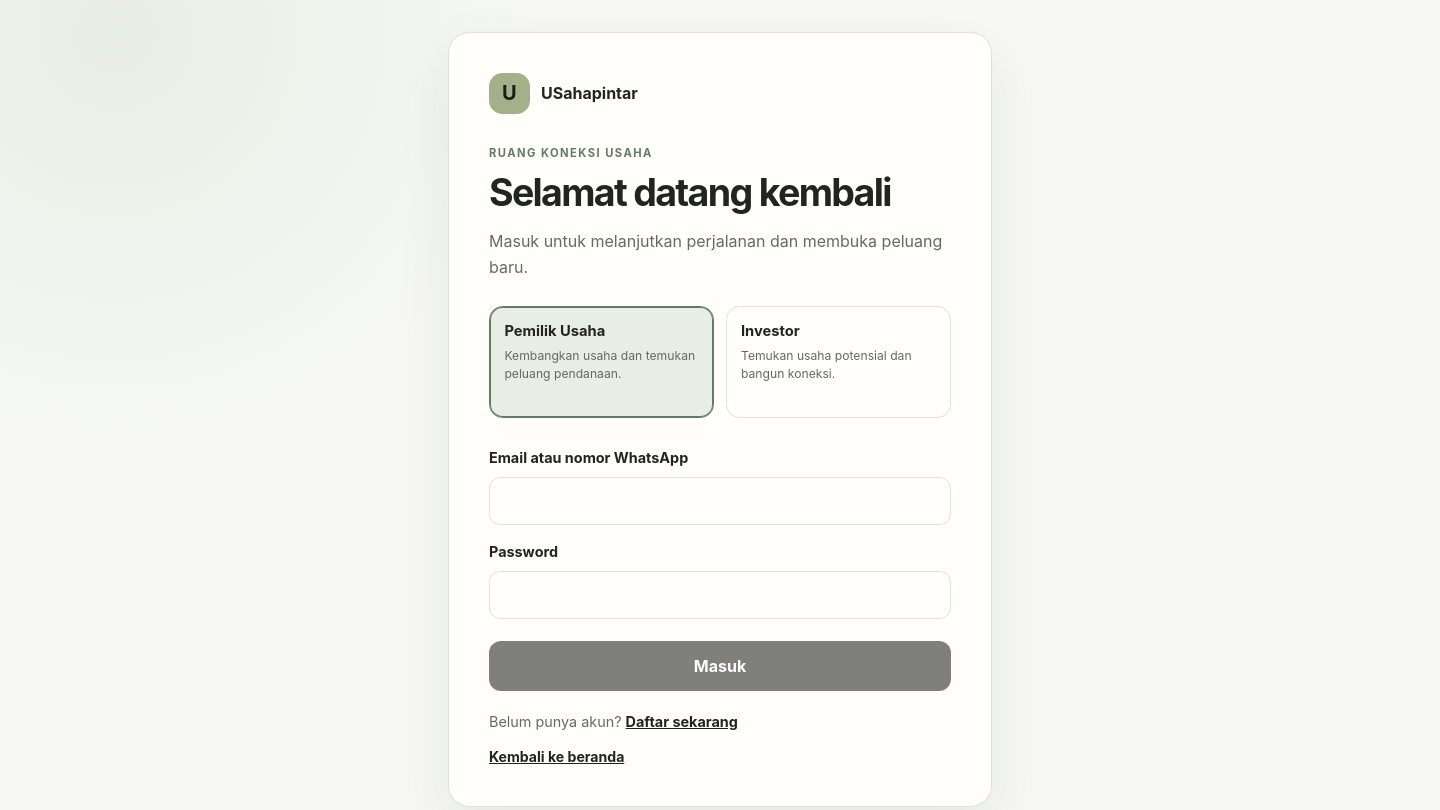
ClientLoginPage › shows API errors without exposing credentials
Type "owner@example.test" into the field labelled "Email atau nomor WhatsApp".
click(720, 501); type("owner@example.test")  # box [489,477,951,525]
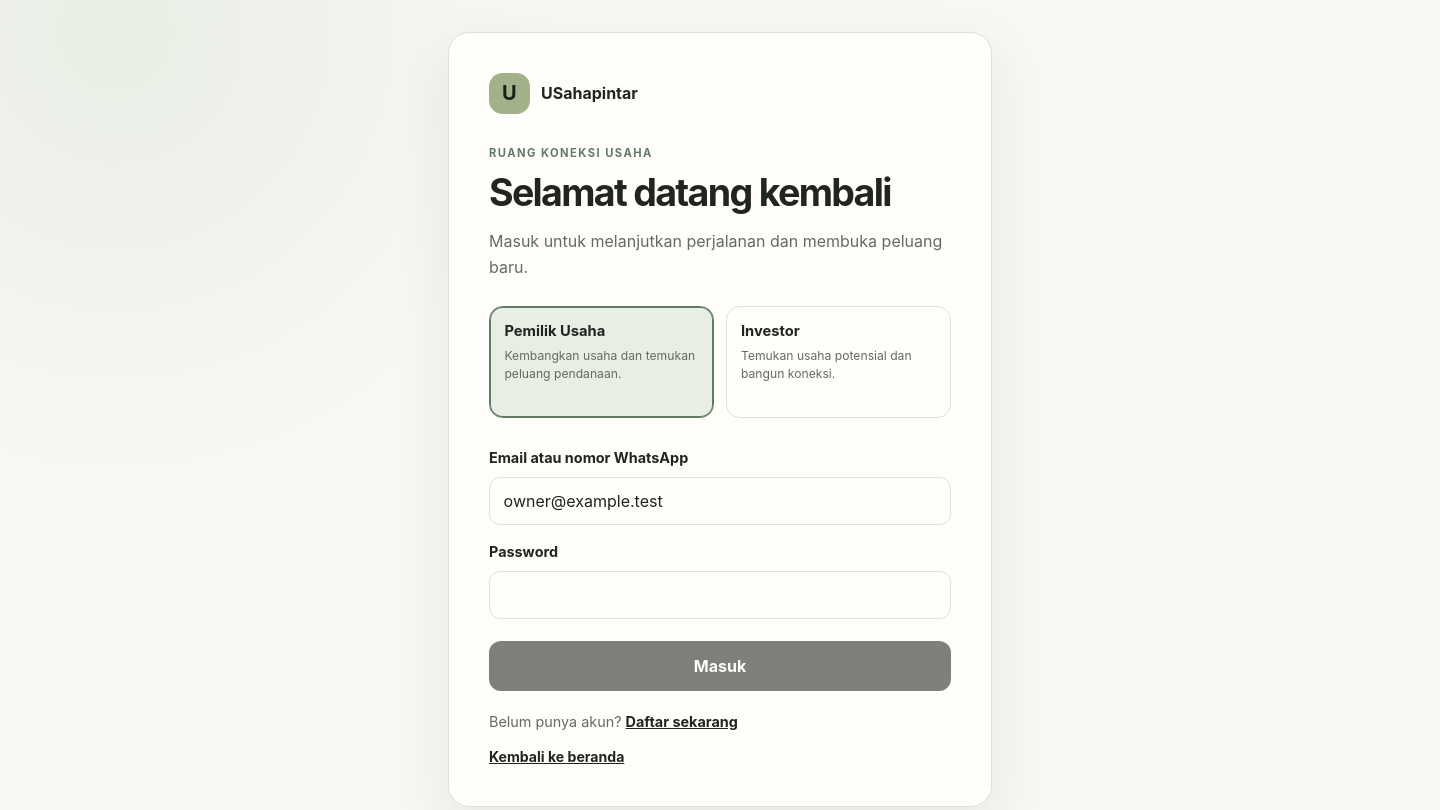
Type "not-a-real-password" into the password field labelled "Password".
click(720, 595); type("not-a-real-password")  # box [489,571,951,619]
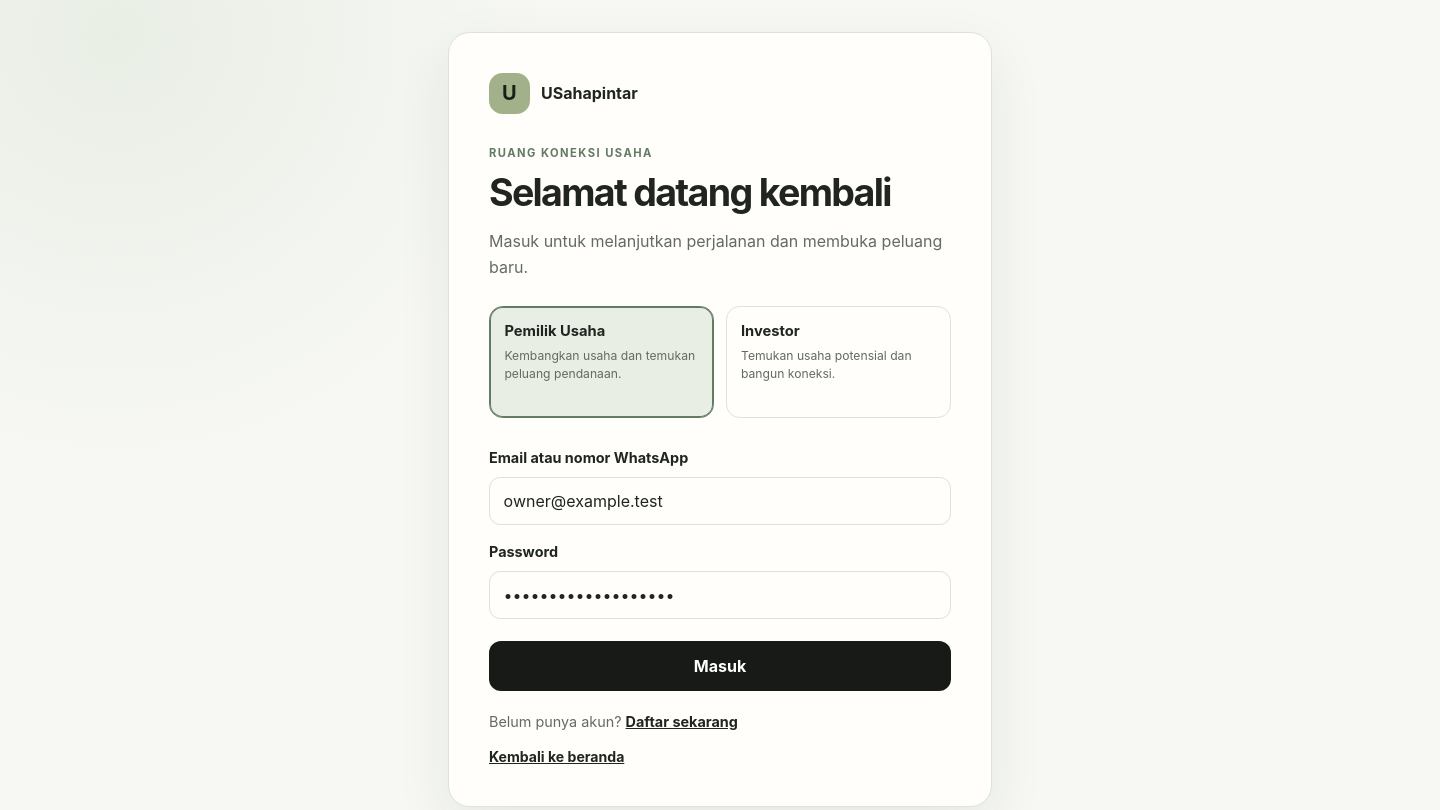
Click the button "Masuk".
click(720, 666)  # box [489,641,951,691]
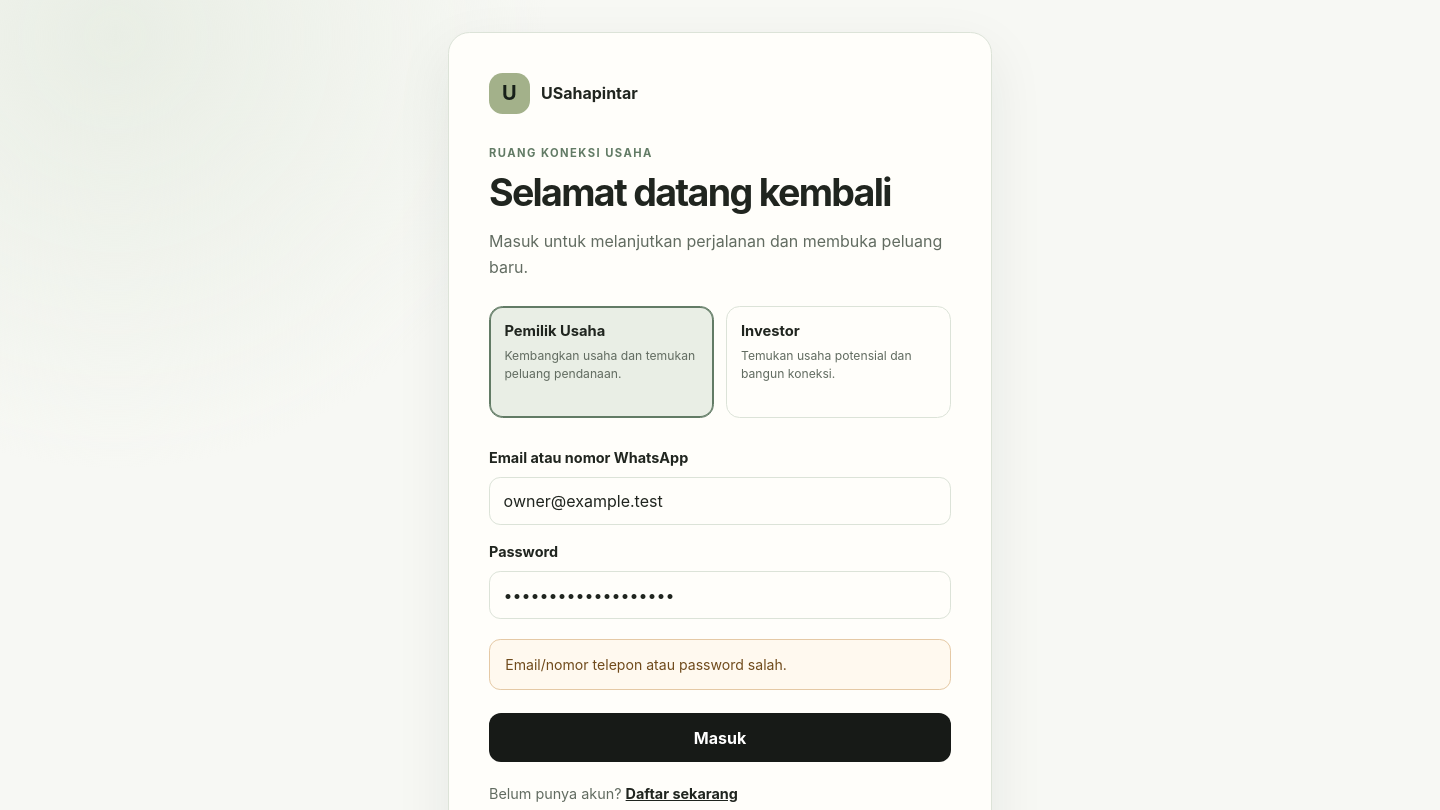
Check: the message reads "Email/nomor telepon atau password salah.", box [505,656,787,673]
